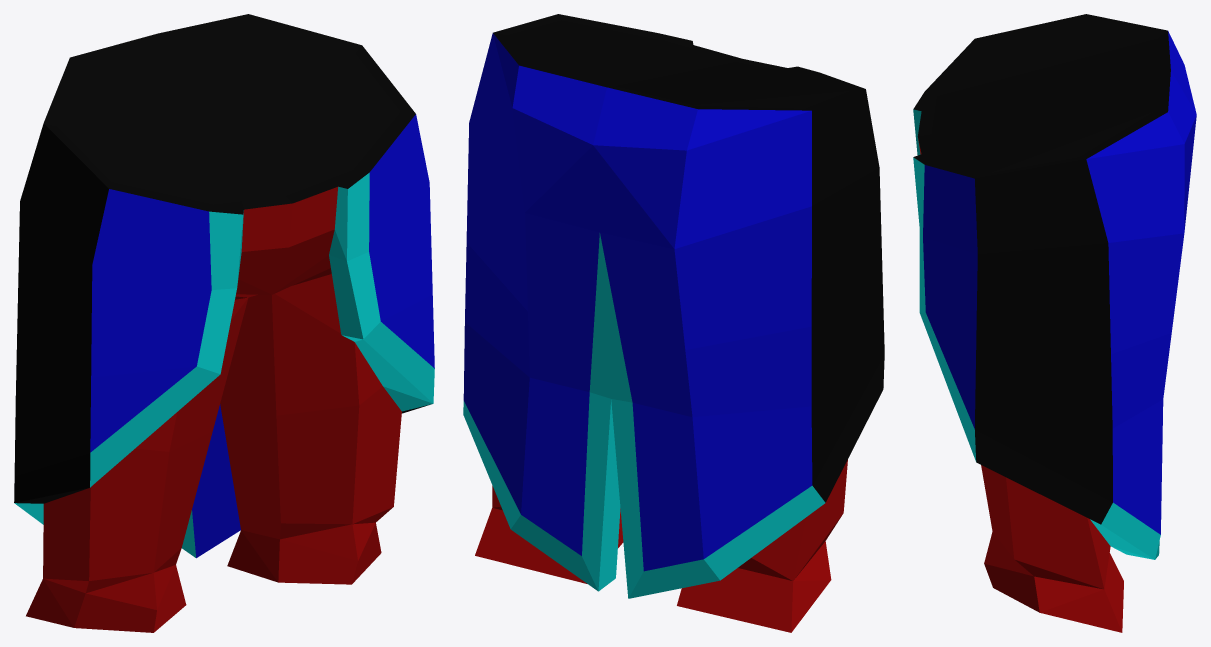
The model's file is Chr_Hips_Male_Static_07.fbx.
3 views of the same model, side by side, from view 1: azimuth 30°, elevation 25°; view 2: azimuth 150°, elevation 25°; view 3: azimuth 270°, elevation 25° (orthographic). The views are drawn at different scales.
Visible parts, largest first — view 1: Chr_Hips_Male_07; view 2: Chr_Hips_Male_07; view 3: Chr_Hips_Male_07.
Boxes of the visible parts, bbox=[...] form: Chr_Hips_Male_07: bbox=[14, 14, 434, 632]; Chr_Hips_Male_07: bbox=[463, 14, 884, 632]; Chr_Hips_Male_07: bbox=[913, 14, 1196, 632].
Size of the model in its own units: 39.99 by 55.45 by 29.05.
